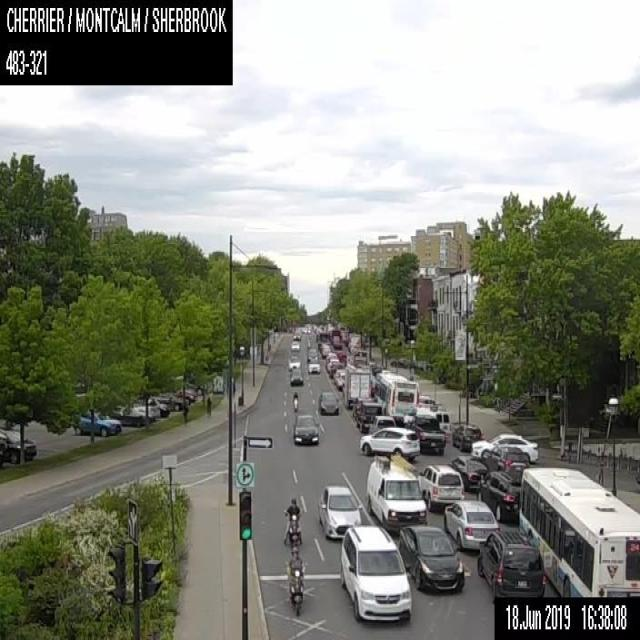bus: (518, 467, 639, 596), (374, 372, 418, 422)
pedestrian: (182, 406, 188, 426), (206, 395, 210, 415)
vehicle: (340, 524, 411, 621), (476, 530, 545, 597), (366, 454, 426, 531), (398, 524, 464, 591), (443, 499, 500, 550), (318, 484, 362, 538), (476, 470, 520, 520), (417, 464, 464, 510), (359, 426, 419, 460), (471, 432, 537, 462), (403, 414, 445, 454), (491, 446, 529, 484), (347, 349, 377, 395), (450, 454, 488, 490), (0, 426, 36, 461), (286, 546, 304, 614), (341, 368, 372, 407), (414, 410, 450, 441), (79, 410, 120, 435), (283, 497, 301, 549), (451, 424, 481, 450), (356, 401, 380, 432), (108, 406, 144, 425), (350, 395, 373, 418), (368, 414, 394, 434), (317, 391, 338, 413), (347, 333, 367, 354), (160, 392, 182, 410), (148, 397, 168, 416), (418, 394, 436, 410), (328, 328, 342, 348), (290, 367, 302, 385), (177, 391, 193, 404), (329, 362, 342, 377), (307, 358, 319, 373), (326, 358, 338, 372), (305, 349, 319, 361), (288, 355, 300, 369), (321, 343, 331, 357), (336, 371, 344, 388), (333, 368, 342, 382), (292, 390, 298, 411), (326, 351, 336, 361), (290, 340, 299, 350), (292, 330, 300, 340), (303, 327, 310, 333)
